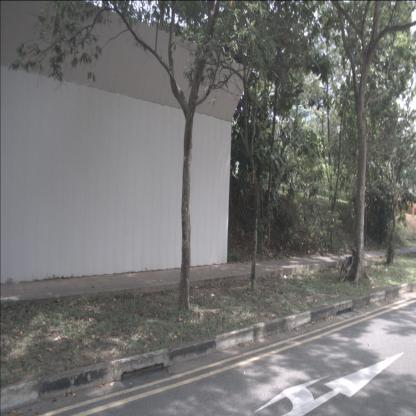vehicle-bicycle: (340, 237, 371, 283)
